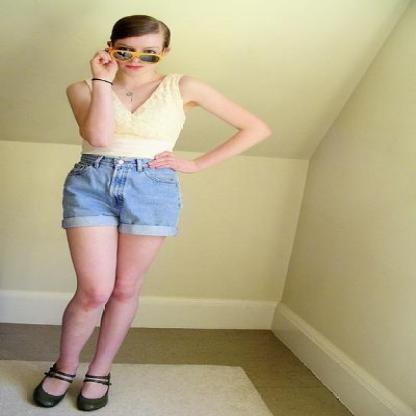shirt: (77, 80, 185, 161)
shoe: (26, 384, 107, 411)
shorts: (39, 154, 180, 384)
sunglass: (103, 44, 159, 68)
